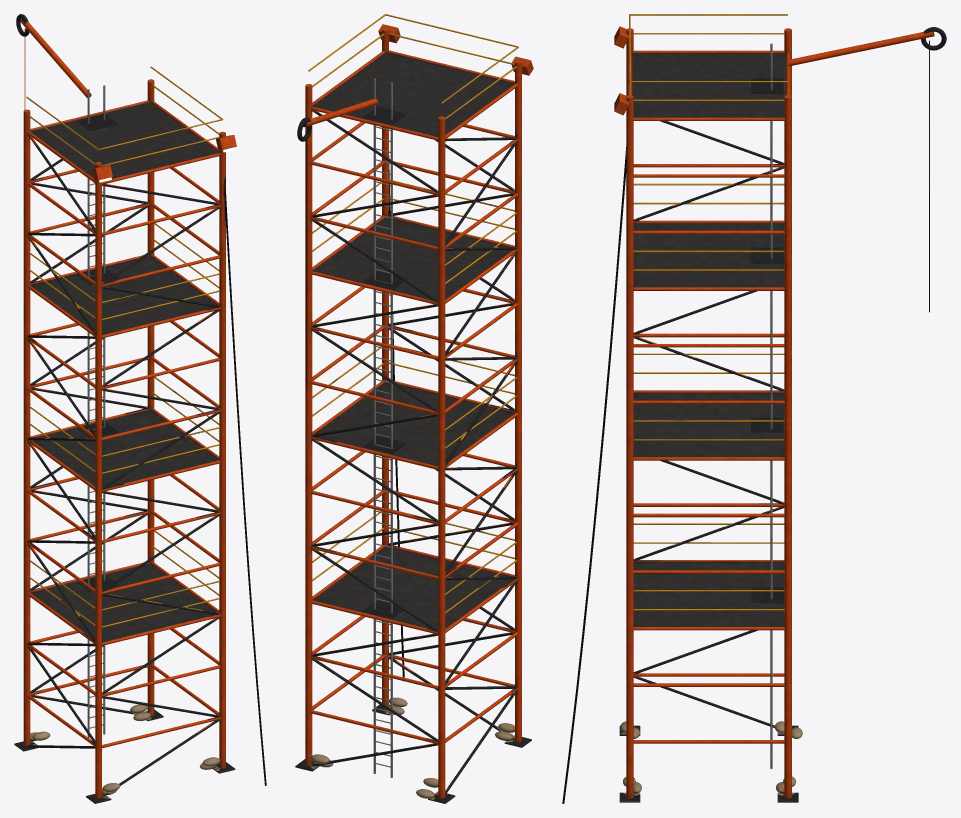
The model's file is hull_gantry.glb.
3 views of the same model, side by side, from view 1: azimuth 30°, elevation 25°; view 2: azimuth 150°, elevation 25°; view 3: azimuth 270°, elevation 25° (orthographic). The views are drawn at different scales.
Visible parts, largest first — view 1: hull_gantry; view 2: hull_gantry; view 3: hull_gantry.
Part boxes in pixels (<box>): hull_gantry: <box>14,14,266,803</box>; hull_gantry: <box>295,14,533,803</box>; hull_gantry: <box>562,14,946,803</box>.
Bounding box in the file's own units: 4.47 × 19.59 × 9.23.
2 materials, 2 textured.
